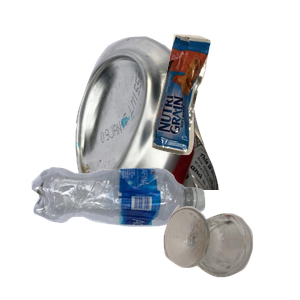glass: (161, 202, 300, 300)
metal: (73, 34, 285, 214)
plastic: (29, 165, 227, 300)
trash: (149, 31, 300, 179)
